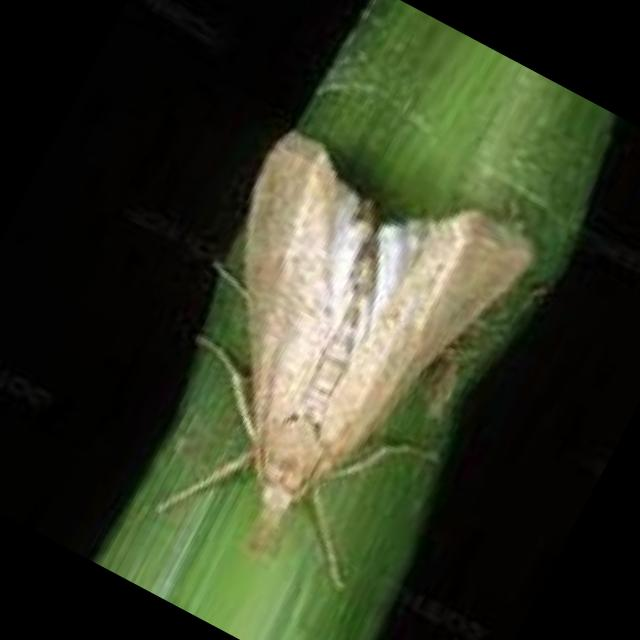stem-borer: (140, 131, 546, 609)
